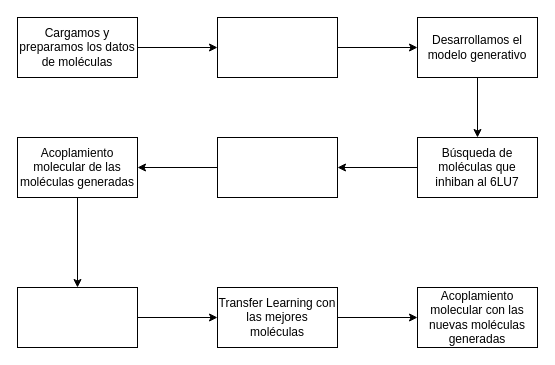
The diagram is 555 pixels wide and 365 high, and some of its shapes have lost their labels. The shapes that lost their labels are listed below. From the top down, each one's centre as x and y in pixels, then its label:
(x=277, y=47): Definimos el modelo LSTM y lo entrenamos
(x=277, y=167): Entrenamiento para generar moléculas con propiedades inhibitorias
(x=77, y=317): Obtenemos las mejores moléculas generadas
